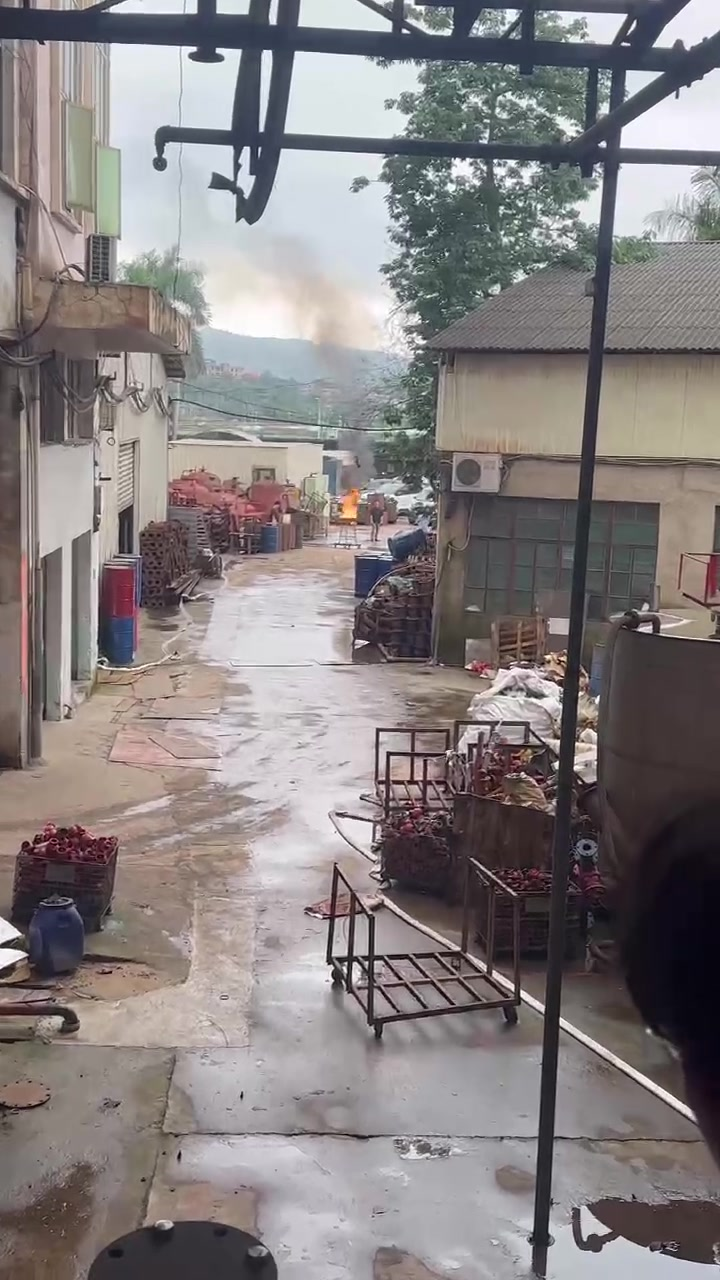fire: (339, 488, 359, 517)
